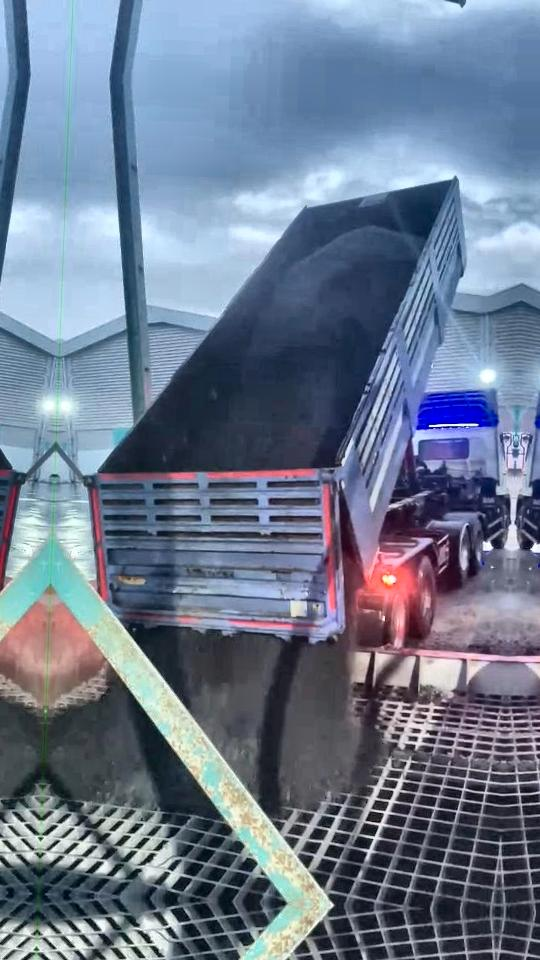gravel: (202, 228, 420, 468), (137, 627, 353, 814), (47, 679, 204, 811)
